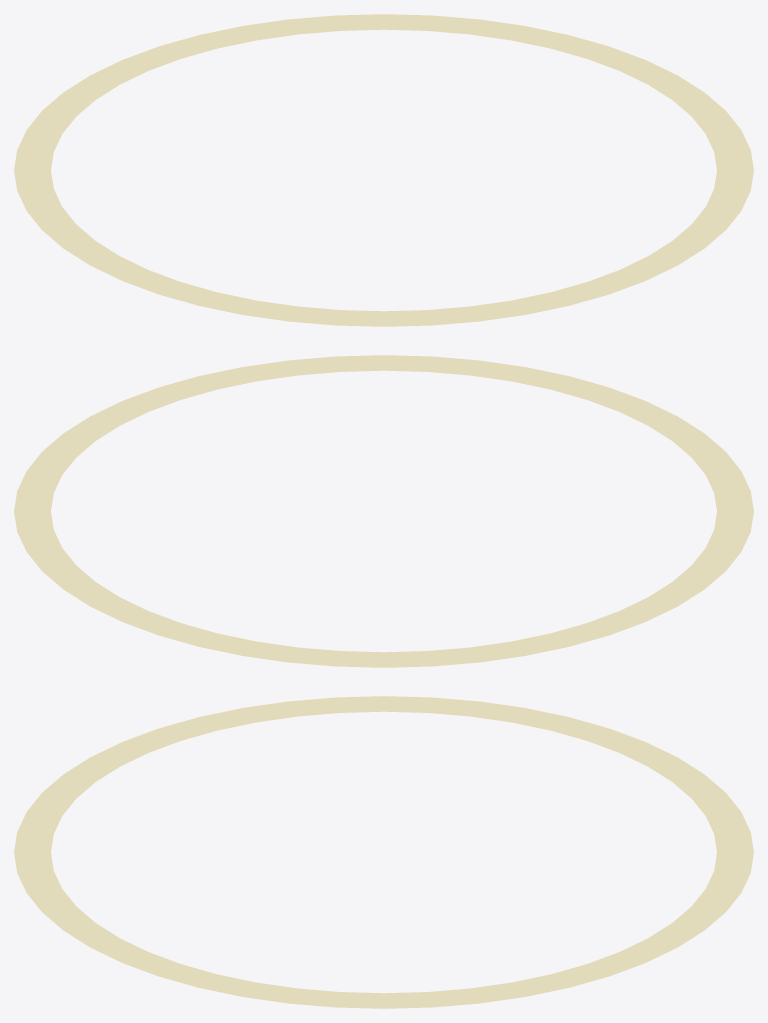
File: aegis_burst.glb
The picture shows the model from 3 angles, top to bottom: view 1: azimuth 30°, elevation 25°; view 2: azimuth 150°, elevation 25°; view 3: azimuth 270°, elevation 25°; orthographic projection.
Parts seen in each view (by area): view 1: aegis_burst; view 2: aegis_burst; view 3: aegis_burst.
Boxes of the visible parts, x1=… form: aegis_burst: x1=14, y1=14, x2=753, y2=326; aegis_burst: x1=14, y1=355, x2=753, y2=667; aegis_burst: x1=14, y1=696, x2=753, y2=1008.
Size of the model in its own units: 2 by 0 by 2.
Materials: 1 (1 with a texture image).
